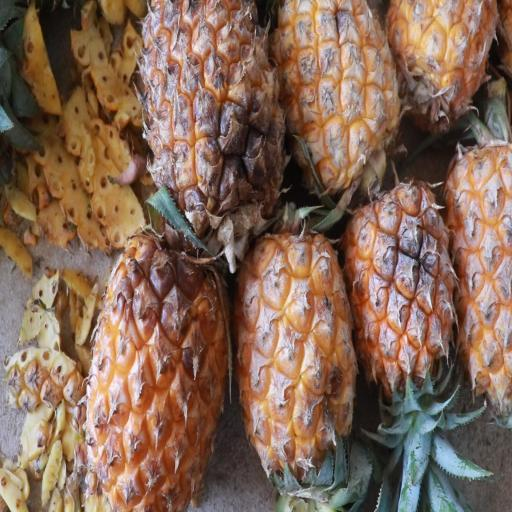Pineapple - v8 v1: (84, 221, 233, 512), (140, 3, 290, 248), (233, 215, 362, 480), (336, 174, 460, 395), (274, 0, 404, 205), (445, 132, 512, 415), (388, 5, 496, 153)
